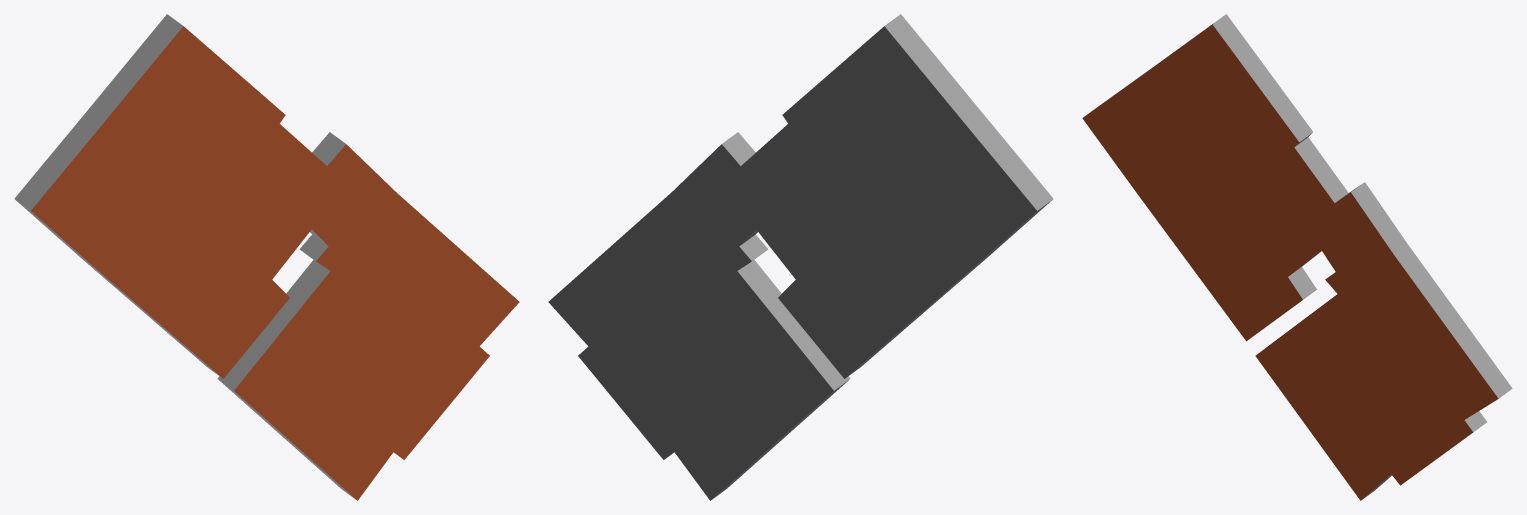
Rendered from construction_0135_assumed_A_Grande_construcao_h6m.obj.
3 renders of one model, left to right at view 1: azimuth 30°, elevation 25°; view 2: azimuth 150°, elevation 25°; view 3: azimuth 330°, elevation 25°, orthographic. The views are drawn at different scales.
Parts seen in each view (by area): view 1: construction_0135_assumed_A_Grande_construcao; view 2: construction_0135_assumed_A_Grande_construcao; view 3: construction_0135_assumed_A_Grande_construcao.
Part boxes in pixels (left/top/right/bottom): construction_0135_assumed_A_Grande_construcao: left=14, top=14, right=519, bottom=500; construction_0135_assumed_A_Grande_construcao: left=548, top=14, right=1053, bottom=500; construction_0135_assumed_A_Grande_construcao: left=1082, top=14, right=1512, bottom=500.
Size of the model in its own units: 103 by 104 by 6.
